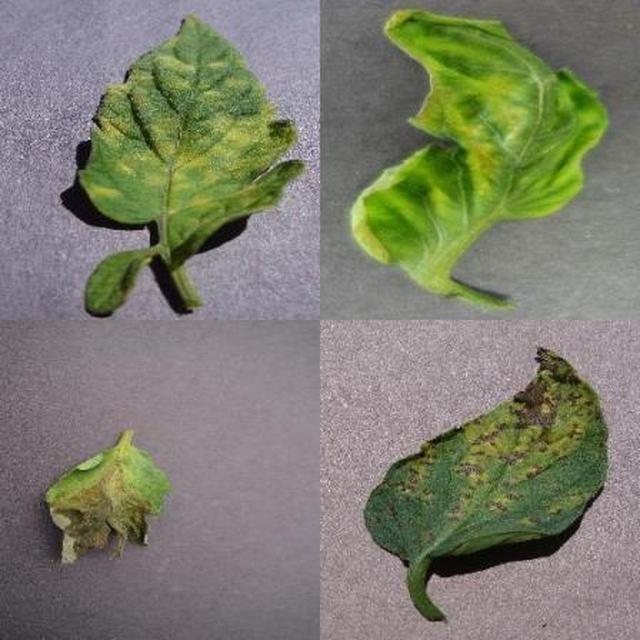Leaf Mold: (153, 176, 640, 640)
